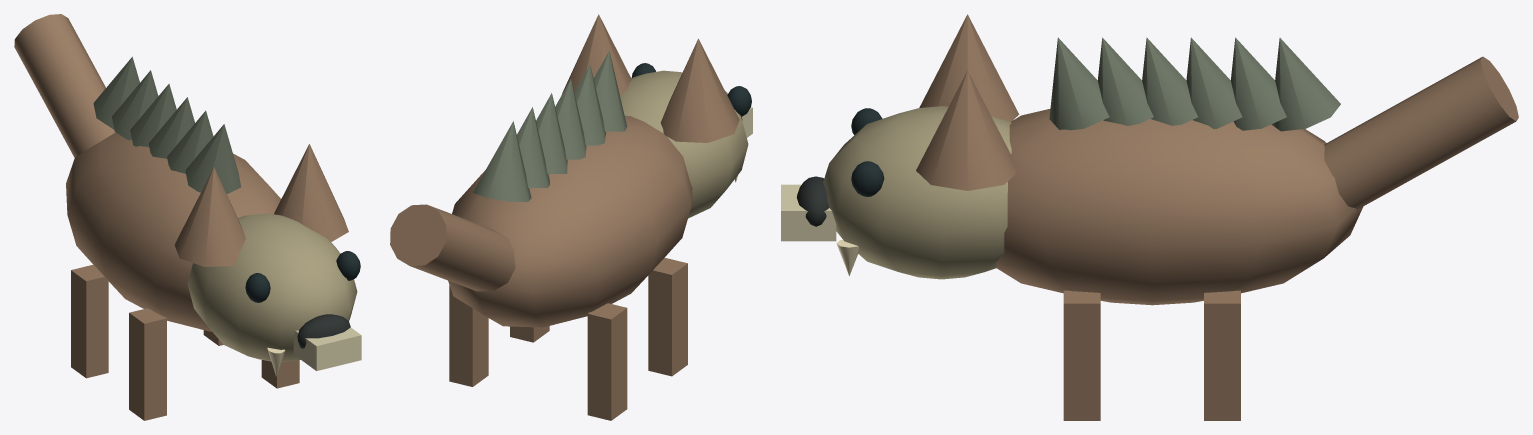
Rendered from enemy-wolf.glb.
3 renders of one model, left to right at view 1: azimuth 30°, elevation 25°; view 2: azimuth 150°, elevation 25°; view 3: azimuth 270°, elevation 25°, orthographic. The views are drawn at different scales.
Parts seen in each view (by area): view 1: Body, Leg2, Leg0, Leg3; view 2: Body, Leg0, Leg2, Leg1, Leg3; view 3: Body, Leg3, Leg1.
Part boxes in pixels (left/top/right/bottom): Body: left=14, top=14, right=361, bottom=376; Leg2: left=129, top=308, right=166, bottom=420; Leg0: left=71, top=265, right=108, bottom=378; Leg3: left=261, top=360, right=299, bottom=388; Body: left=390, top=14, right=752, bottom=327; Leg0: left=587, top=303, right=627, bottom=420; Leg2: left=648, top=257, right=687, bottom=376; Leg1: left=449, top=285, right=488, bottom=386; Leg3: left=510, top=326, right=549, bottom=342; Body: left=781, top=14, right=1518, bottom=305; Leg3: left=1063, top=290, right=1100, bottom=420; Leg1: left=1204, top=290, right=1240, bottom=420.
Size of the model in its own units: 0.64 by 1.01 by 2.
